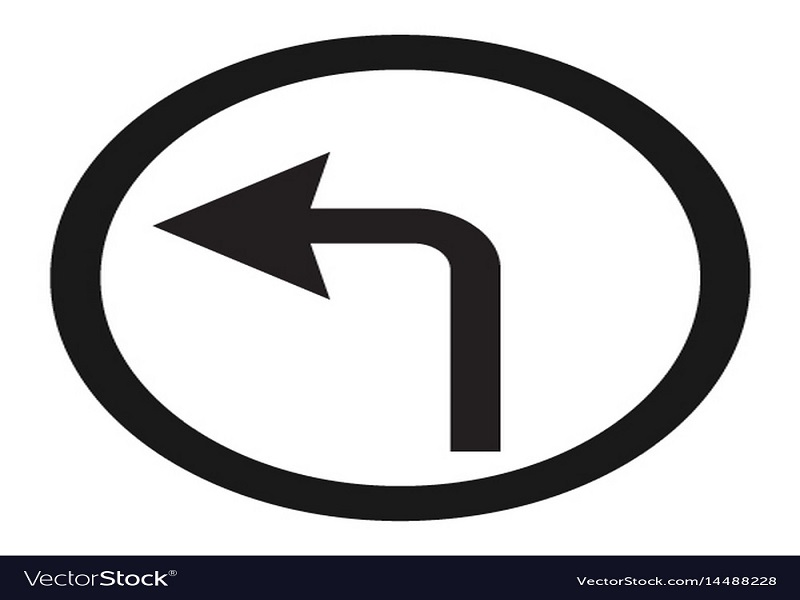solaDon: (144, 141, 564, 456)
